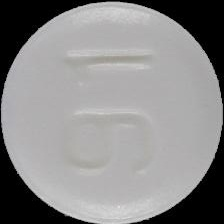63629-5042: (0, 0, 224, 224)
